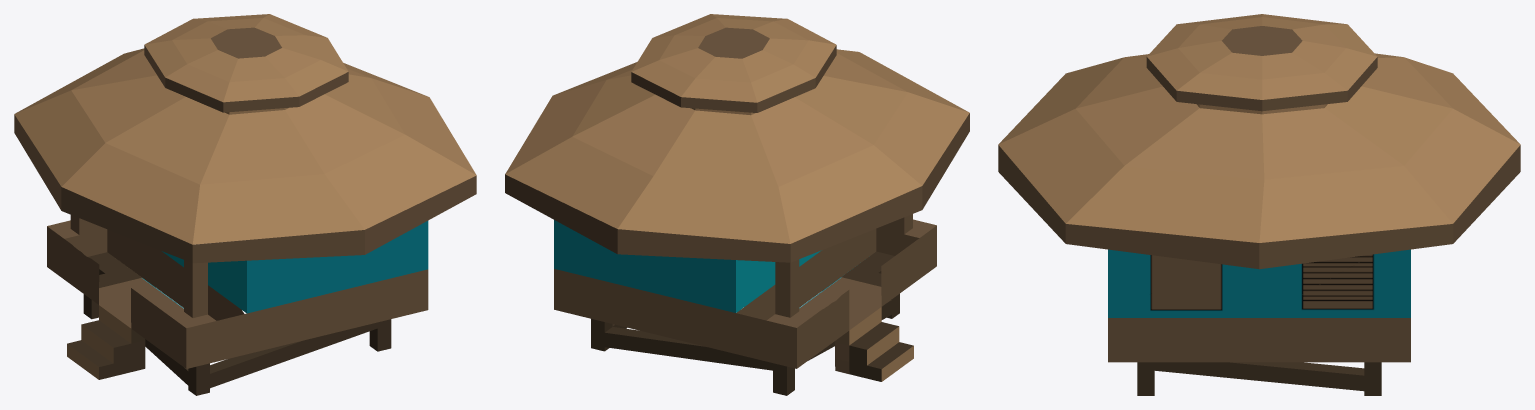
Rendered from casa_da_vila.fbx.
3 views of the same model, side by side, from view 1: azimuth 30°, elevation 25°; view 2: azimuth 150°, elevation 25°; view 3: azimuth 270°, elevation 25° (orthographic). The views are drawn at different scales.
Visible parts, largest first — view 1: Cube; view 2: Cube; view 3: Cube.
Part boxes in pixels (x1,y1,x2,y2): Cube: (14,14,476,395); Cube: (505,14,969,395); Cube: (998,14,1520,395).
Size of the model in its own units: 304 by 226 by 345.
